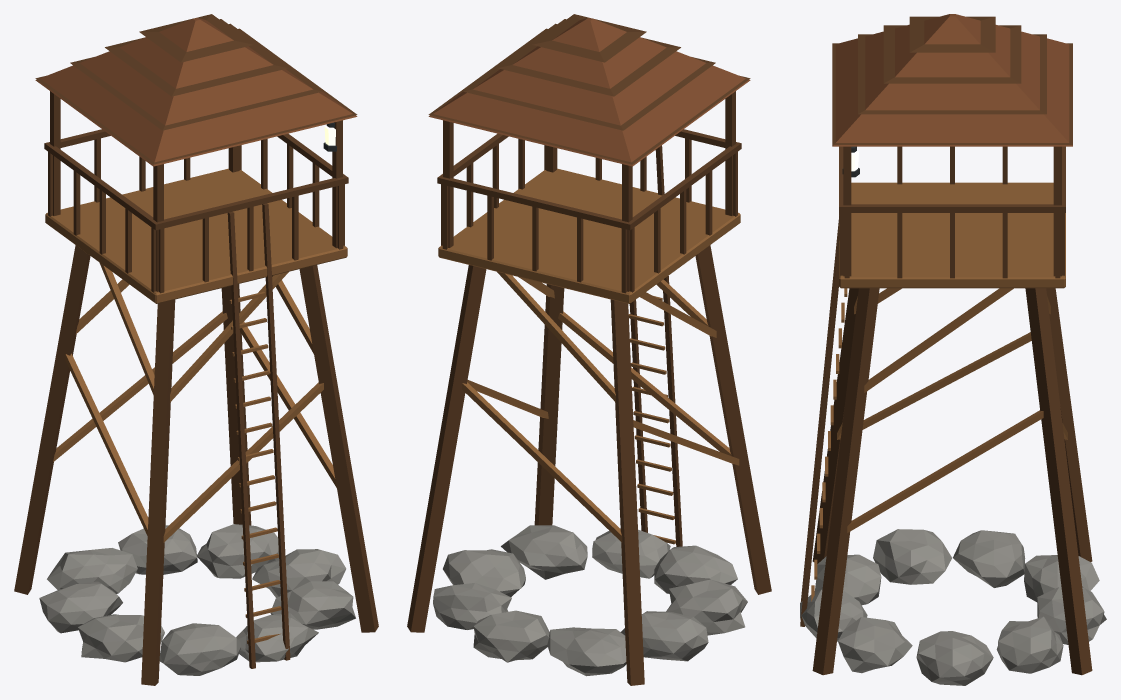
File: for_tower_v01.glb
The picture shows the model from 3 angles, left to right: view 1: azimuth 30°, elevation 25°; view 2: azimuth 150°, elevation 25°; view 3: azimuth 270°, elevation 25°; orthographic projection.
Visible parts, largest first — view 1: tower; view 2: tower; view 3: tower.
Boxes of the visible parts, left/top/right/bottom form: tower: left=14, top=14, right=378, bottom=685; tower: left=407, top=14, right=771, bottom=685; tower: left=800, top=14, right=1106, bottom=685.
Size of the model in its own units: 4.06 by 8.36 by 3.79.
